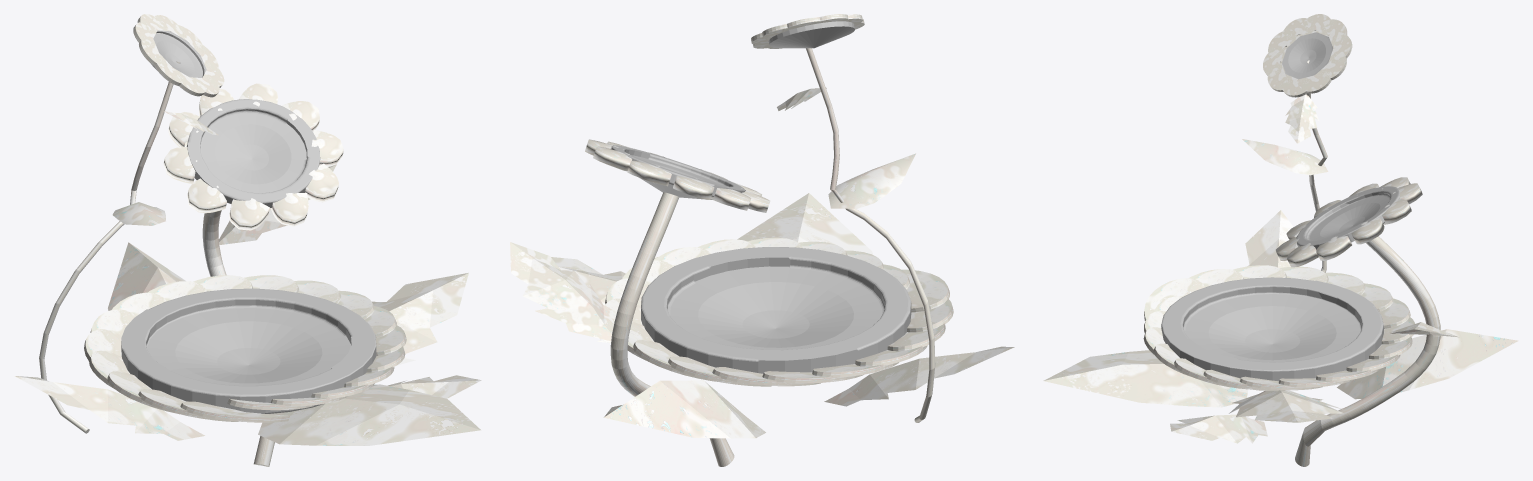
Rendered from FountainV2.fbx.
3 renders of one model, left to right at view 1: azimuth 30°, elevation 25°; view 2: azimuth 150°, elevation 25°; view 3: azimuth 270°, elevation 25°, orthographic. The views are drawn at different scales.
Visible parts, largest first — view 1: Cylinder.008, Plane.001, Cylinder.006; view 2: Cylinder.008, Plane.001, Cylinder.006; view 3: Plane.001, Cylinder.008, Cylinder.006.
Part boxes in pixels (x1,y1,x2,y2): Cylinder.008: [121, 30, 376, 413]; Plane.001: [15, 61, 481, 466]; Cylinder.006: [84, 14, 406, 422]; Cylinder.008: [611, 21, 911, 373]; Plane.001: [510, 48, 1014, 466]; Cylinder.006: [585, 14, 953, 386]; Plane.001: [1043, 60, 1518, 466]; Cylinder.008: [1161, 30, 1399, 381]; Cylinder.006: [1143, 14, 1422, 391].
Bounding box in the file's own units: 679 × 644 × 691.
